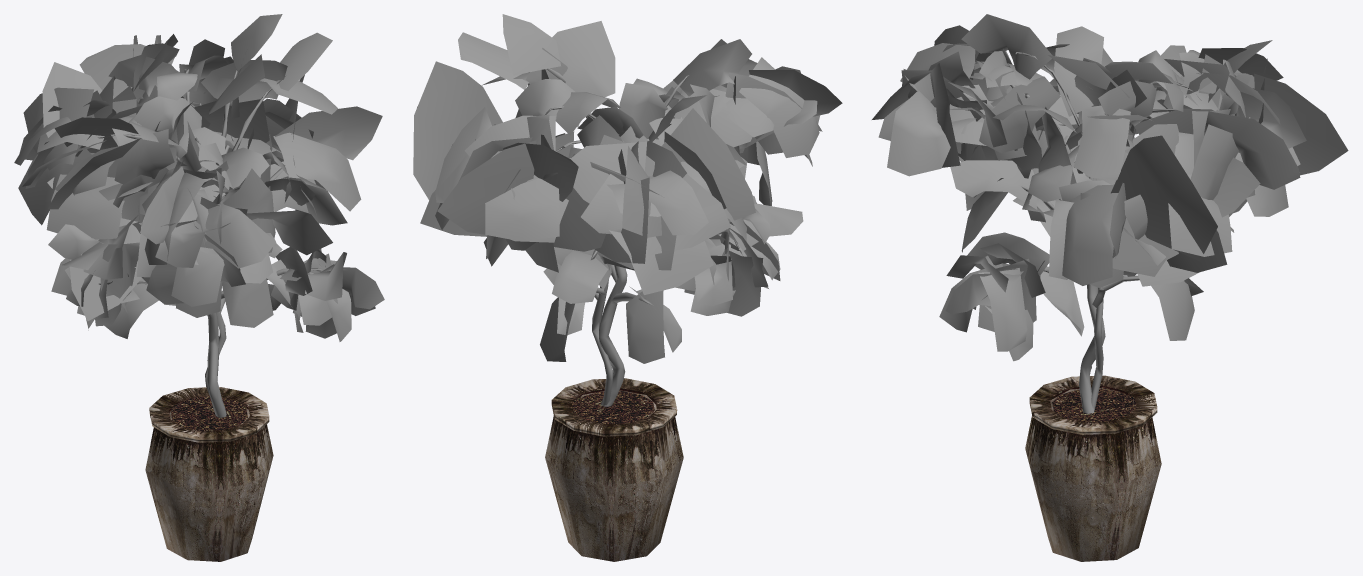
File: Ficus2_Leaf_lod1.fbx
3 renders of one model, left to right at view 1: azimuth 30°, elevation 25°; view 2: azimuth 150°, elevation 25°; view 3: azimuth 270°, elevation 25°, orthographic. The views are drawn at different scales.
Visible parts, largest first — view 1: Ficus2_Leaf_lod1; view 2: Ficus2_Leaf_lod1; view 3: Ficus2_Leaf_lod1.
Part boxes in pixels (x1,y1,x2,y2): Ficus2_Leaf_lod1: (14, 14, 384, 561); Ficus2_Leaf_lod1: (413, 14, 842, 561); Ficus2_Leaf_lod1: (872, 14, 1348, 561).
Size of the model in its own units: 115 by 160 by 130.
